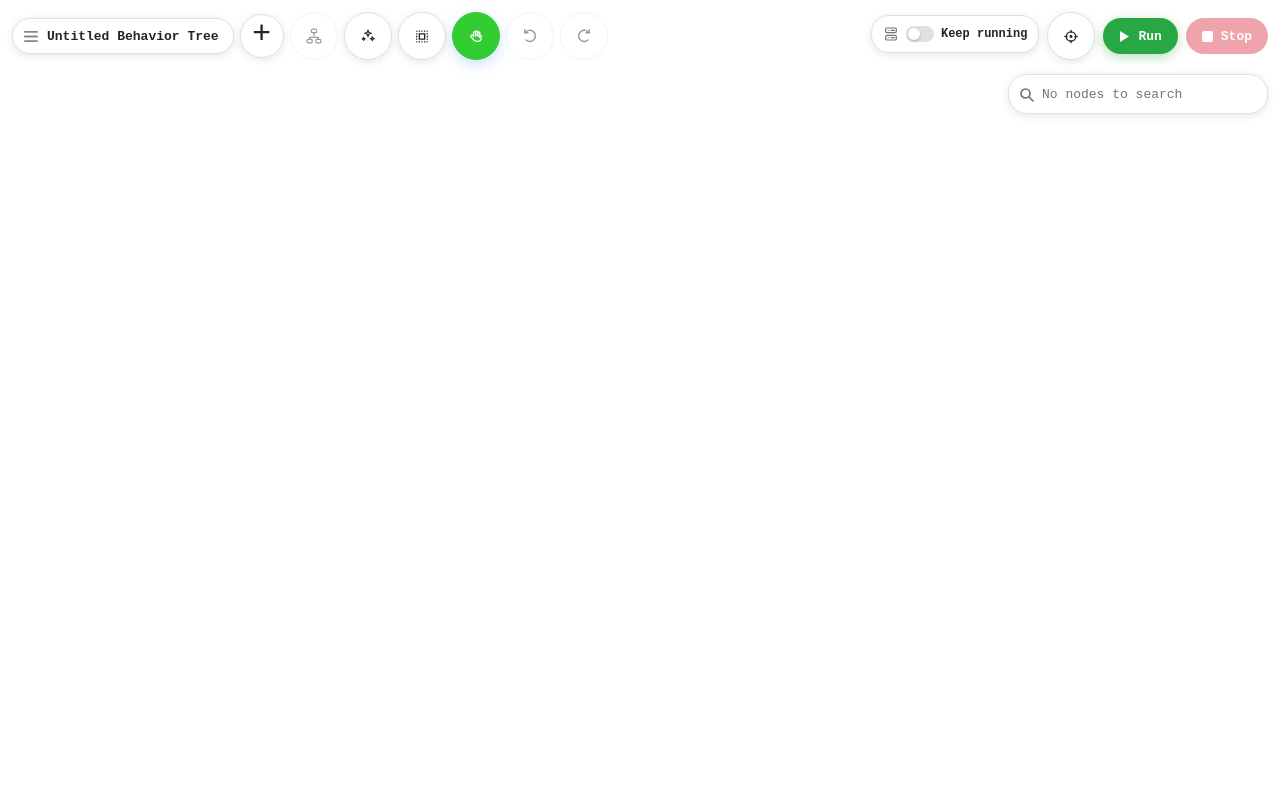
Test: BehaviorTreePanel › does not open the node palette until the user toggles it
The width and height of the screenshot is (1280, 800).
Click the button with test id "bt-palette-toggle". click: x=262, y=36
box: [240,14,284,58]
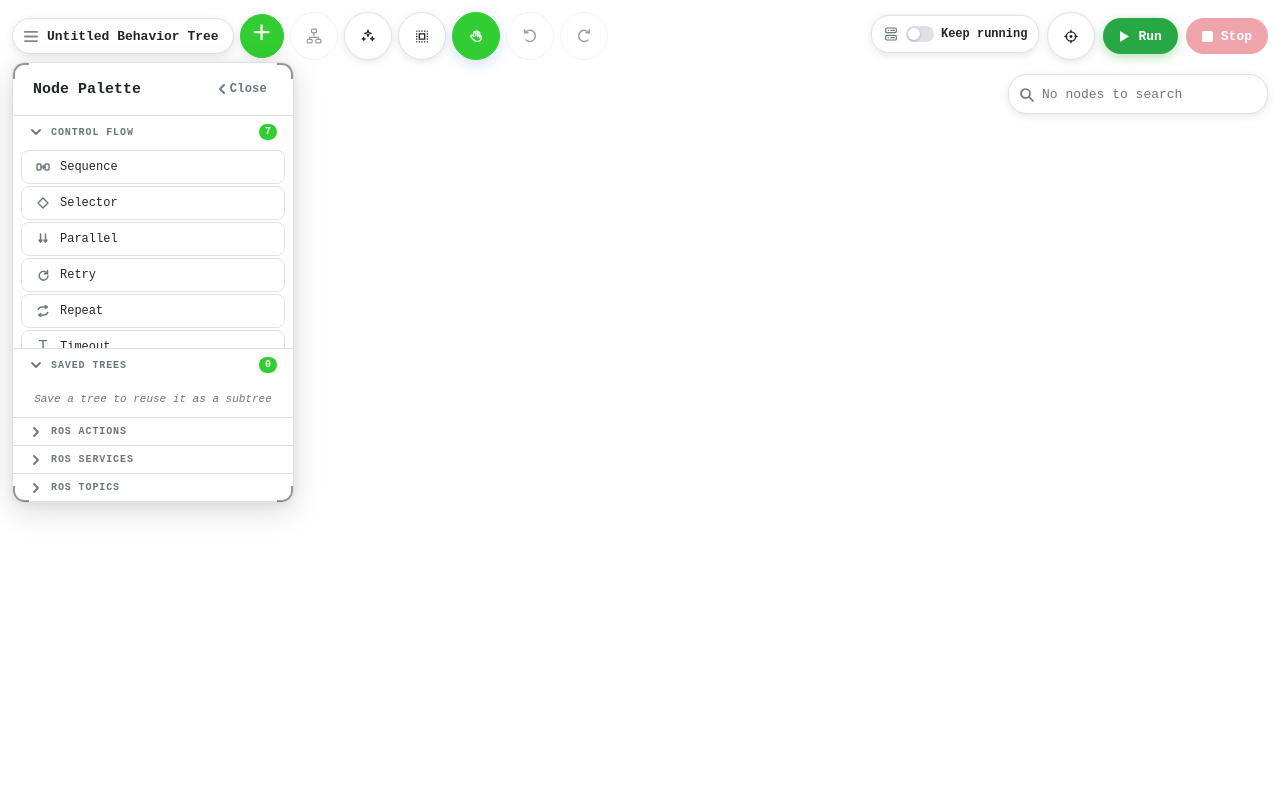
Expected: the element with test id "bt-node-palette" is shown, [12,62,294,503]
Click the button named "Close node palette". click: x=640, y=400
box: [0,0,1279,799]
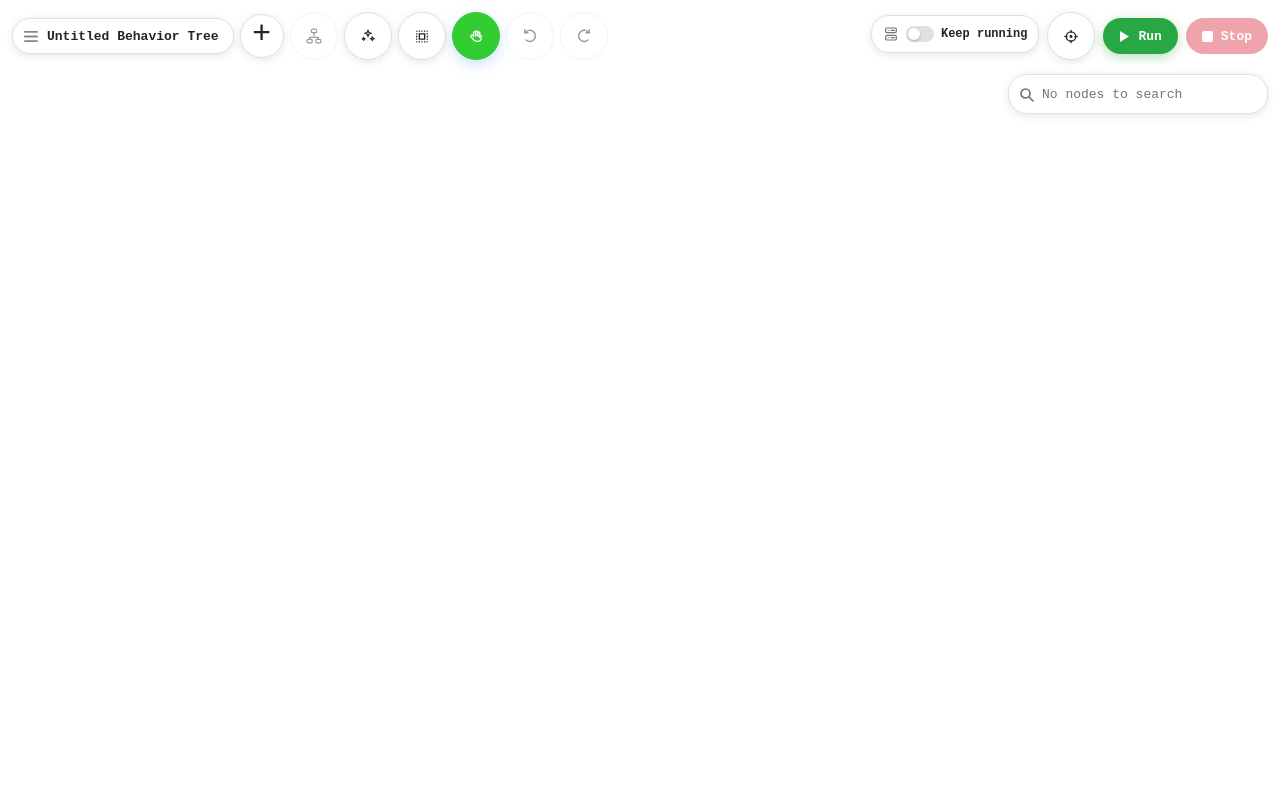
Expected: the element with test id "bt-node-palette" is gone
